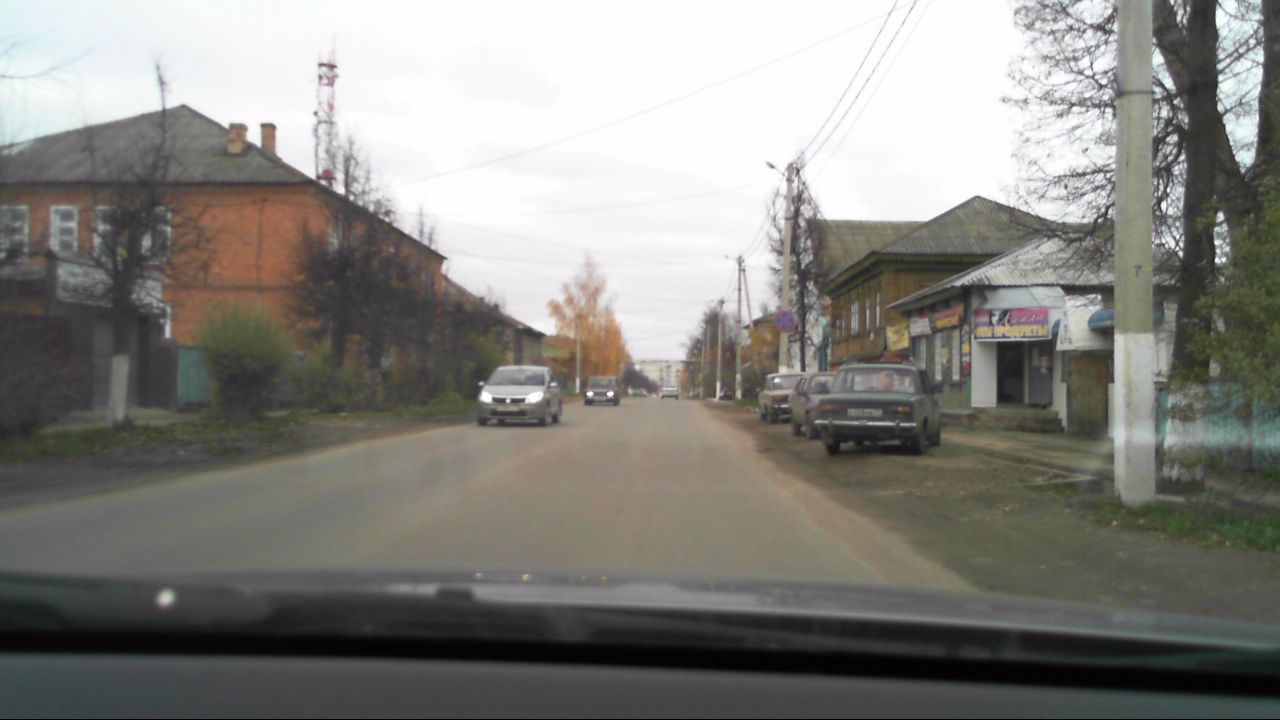No Parking: (769, 305, 795, 331)
